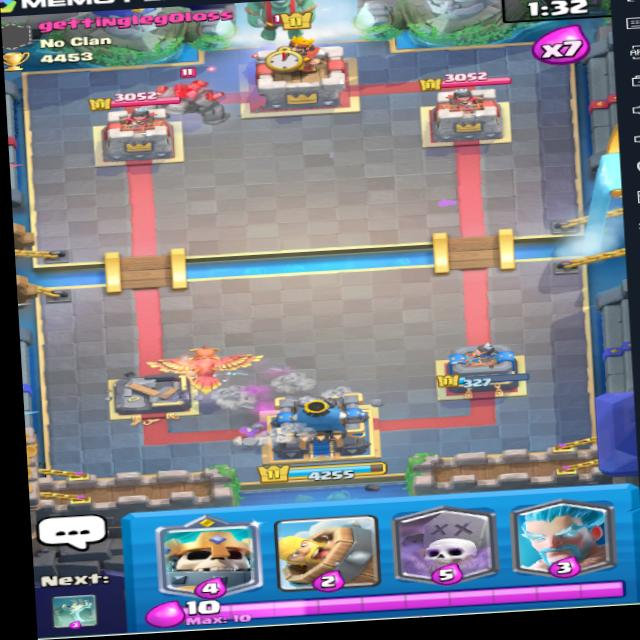Golem: (142, 72, 236, 133)
